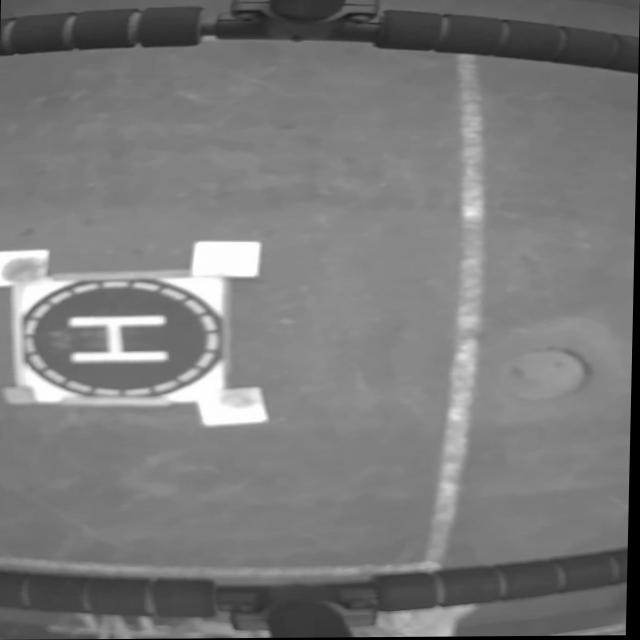Helipad: (69, 315, 171, 361)
